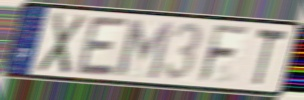3: (163, 21, 206, 83)
E: (73, 14, 131, 79)
F: (195, 23, 253, 86)
M: (114, 16, 176, 81)
T: (252, 26, 289, 90)
X: (34, 10, 89, 77)
